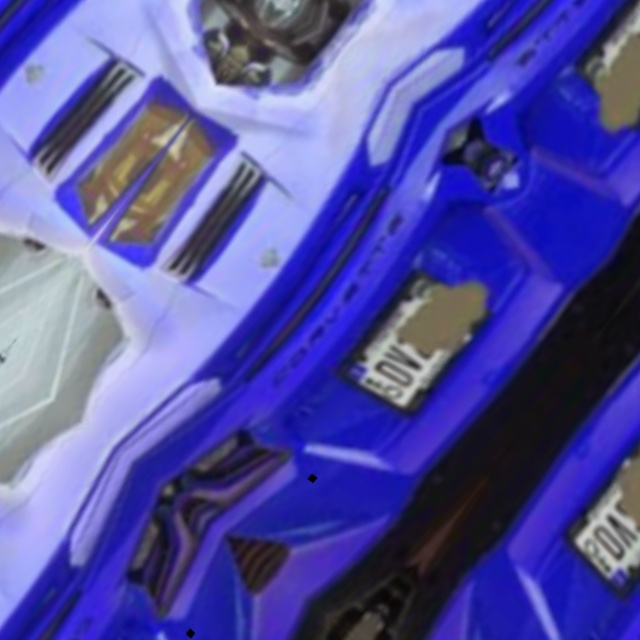ISA: (578, 535, 621, 575), (363, 366, 405, 406)
